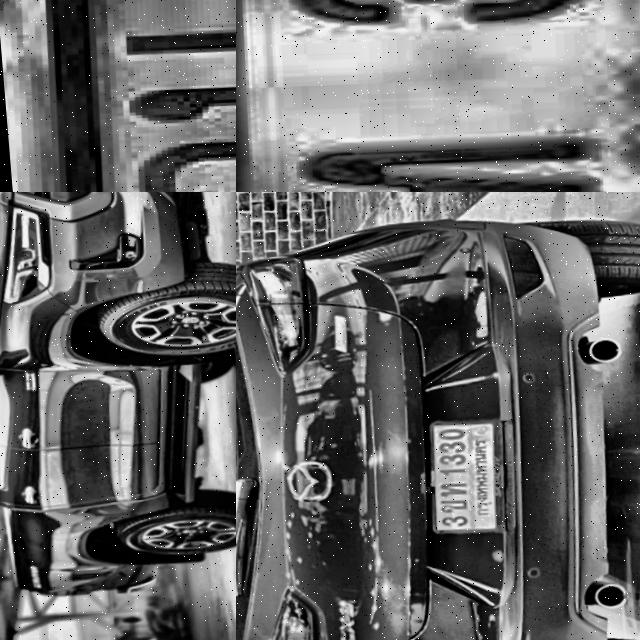license-plate: (236, 0, 640, 192), (0, 0, 236, 192), (416, 423, 501, 542)
